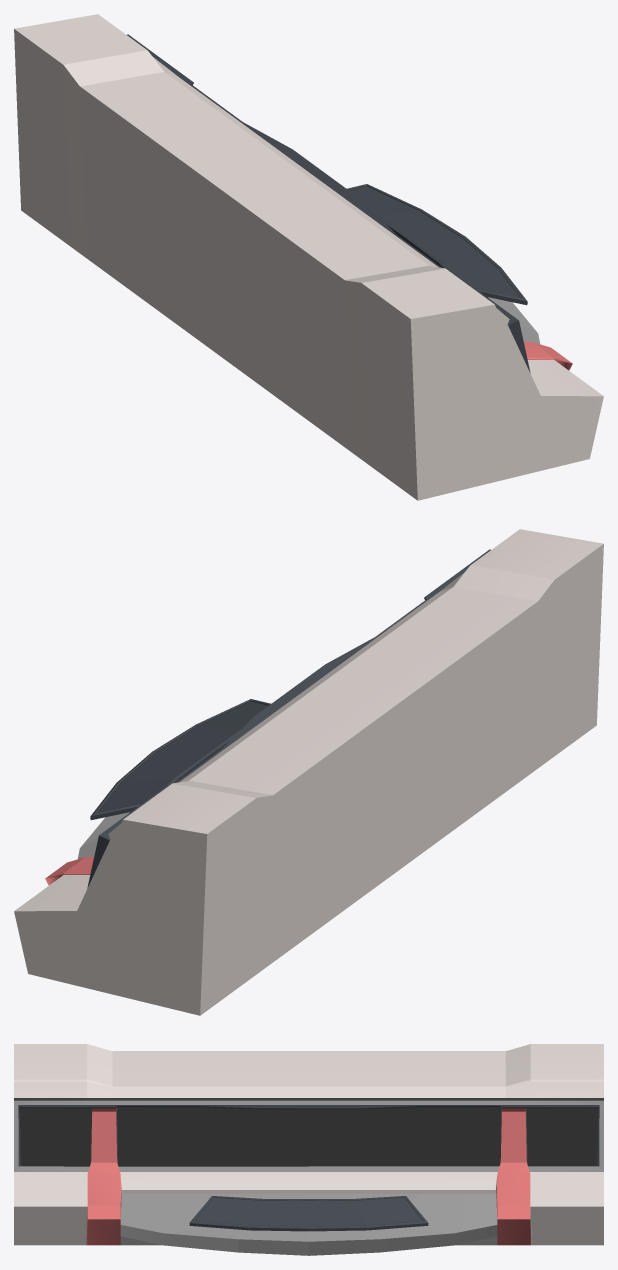
File: Terminal.fbx
The picture shows the model from 3 angles, top to bottom: view 1: azimuth 30°, elevation 25°; view 2: azimuth 150°, elevation 25°; view 3: azimuth 270°, elevation 25°; orthographic projection. The views are drawn at different scales.
Parts seen in each view (by area): view 1: pasted__pasted__pCube16, pasted__pasted__pCube18; view 2: pasted__pasted__pCube18, pasted__pasted__pCube16; view 3: pasted__pasted__pCube16, pasted__pasted__pCube18.
Part boxes in pixels (box(x1,y1,x2,y2)): pasted__pasted__pCube16: box(212, 169, 603, 500); pasted__pasted__pCube18: box(14, 14, 464, 355); pasted__pasted__pCube18: box(14, 684, 405, 1015); pasted__pasted__pCube16: box(153, 529, 603, 869); pasted__pasted__pCube16: box(14, 1044, 308, 1255); pasted__pasted__pCube18: box(309, 1044, 603, 1255).
Size of the model in its own units: 7.45 by 5.15 by 20.21.
